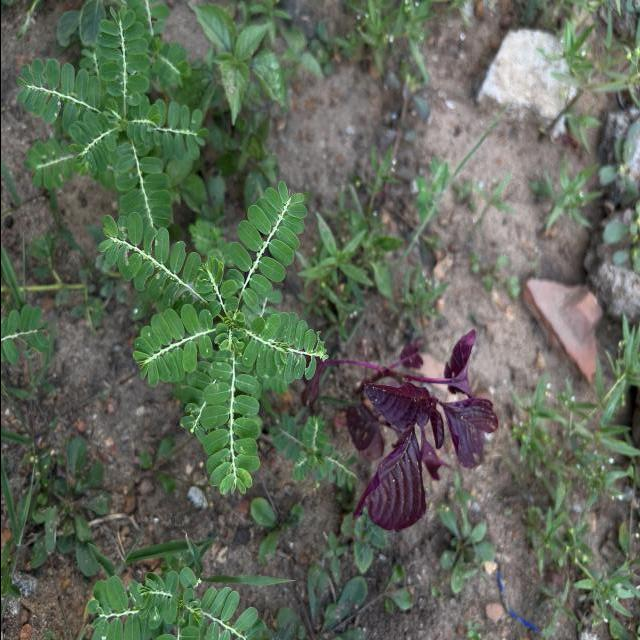Phyllanthus niruri: (98, 210, 218, 316), (225, 178, 308, 308), (200, 339, 262, 500), (128, 302, 215, 388), (15, 54, 104, 132), (239, 310, 329, 386), (114, 137, 174, 235), (93, 5, 150, 103)
